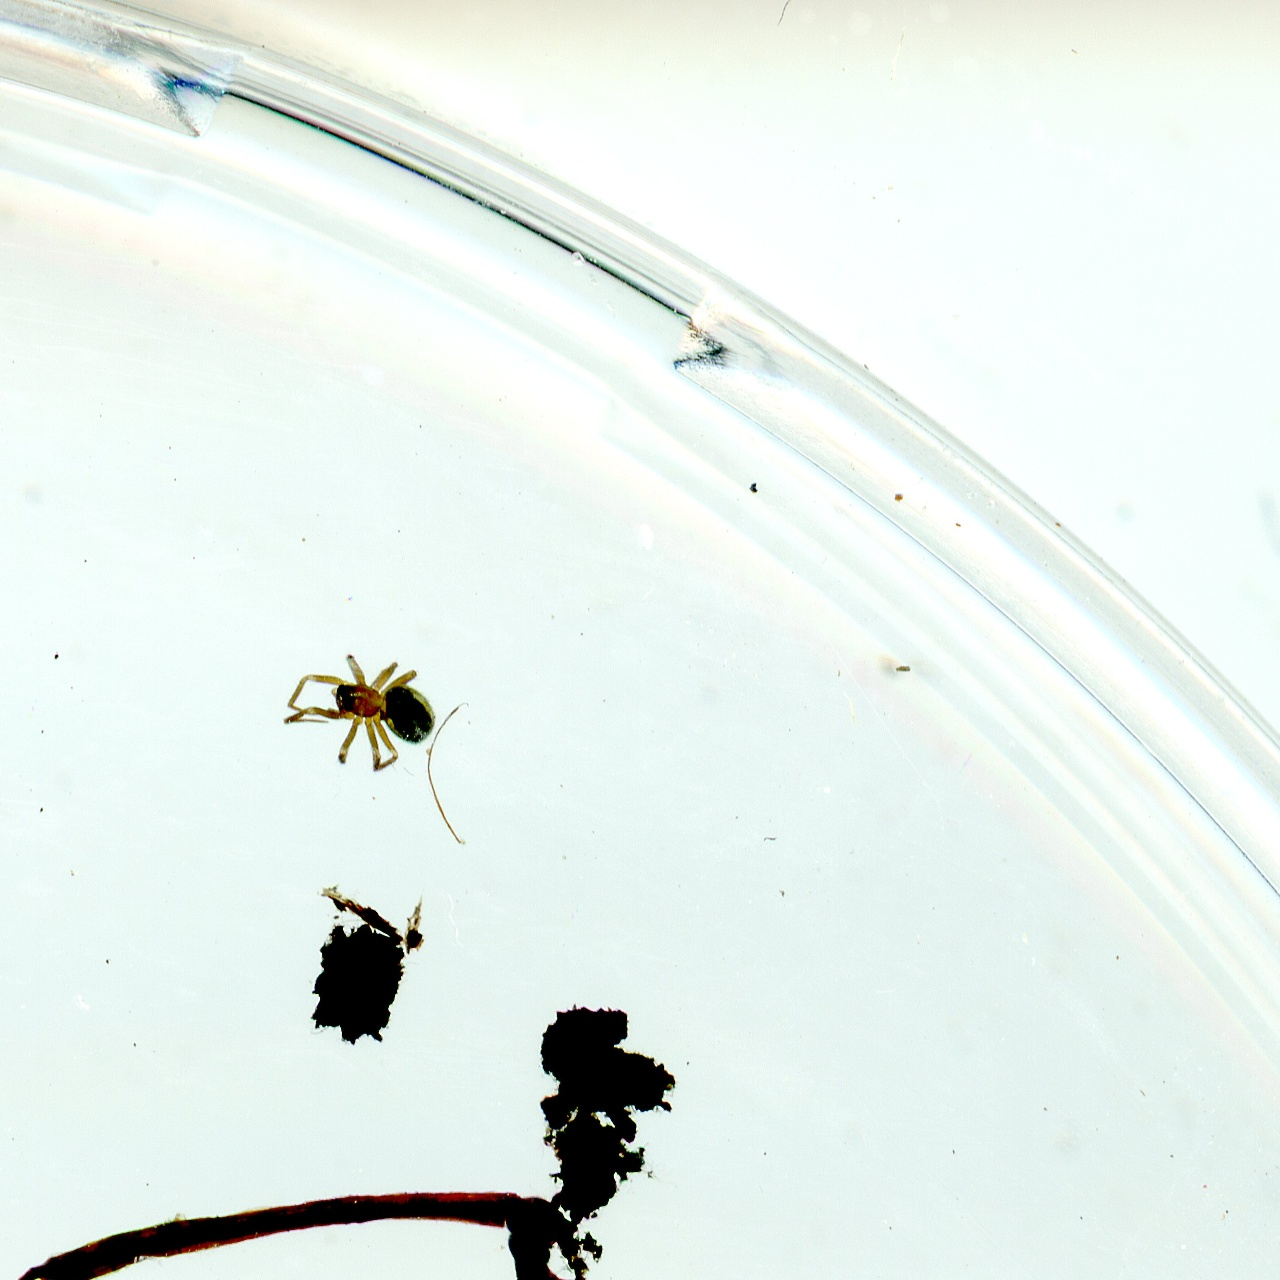arthropod: (277, 652, 442, 778), (468, 1214, 656, 1280)
